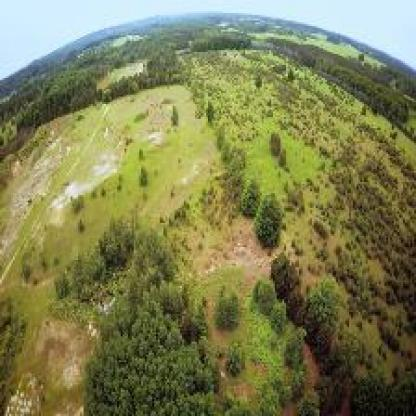other: (173, 217, 292, 278)
